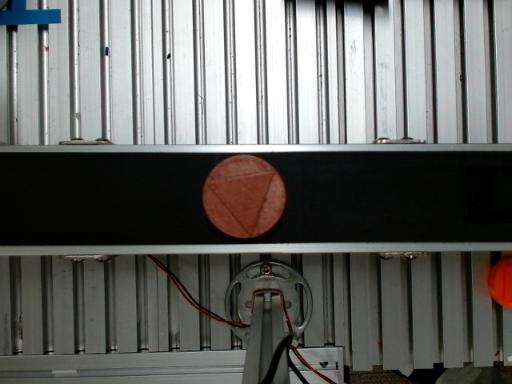Brown_Waper: (202, 155, 286, 238)
Not_Square: (207, 171, 275, 236)
